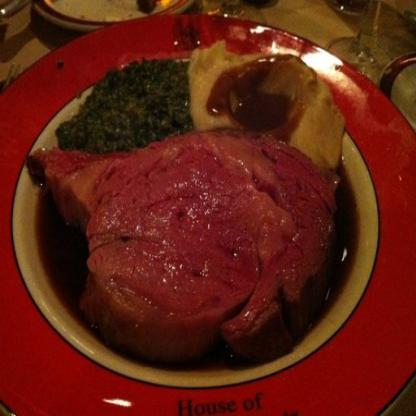beef: (38, 128, 335, 352)
